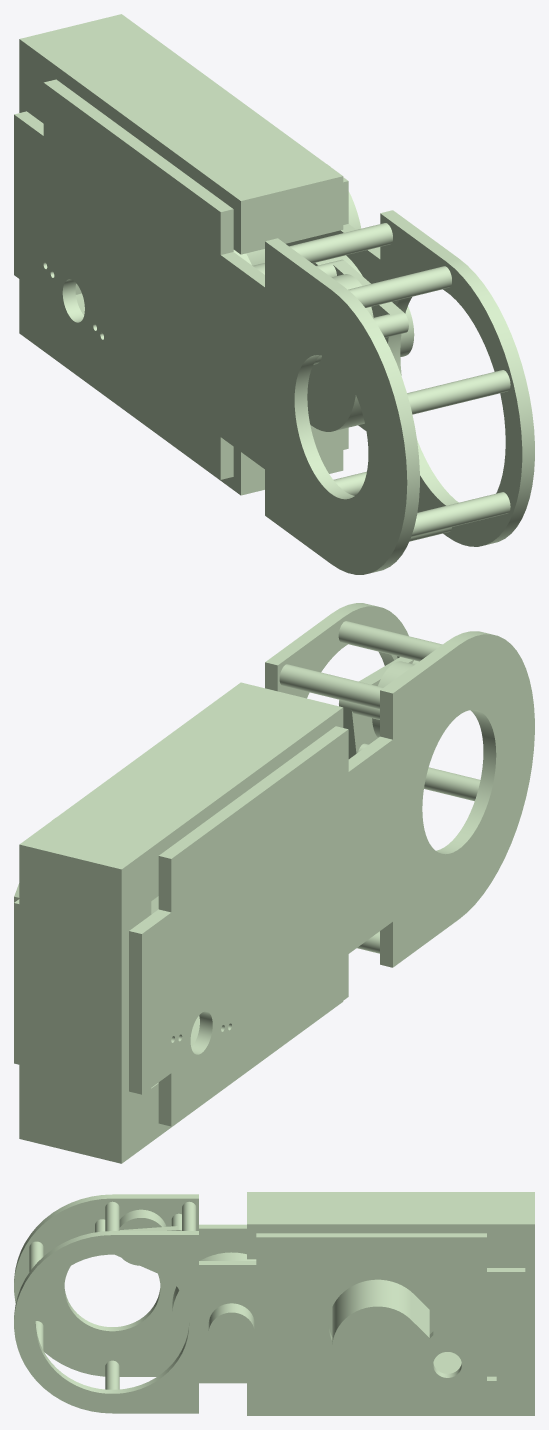
3 views of the same model, one above another, from view 1: azimuth 30°, elevation 25°; view 2: azimuth 150°, elevation 25°; view 3: azimuth 270°, elevation 25° (orthographic). The views are drawn at different scales.
Parts seen in each view (by area): view 1: Elev Carriage; view 2: Elev Carriage; view 3: Elev Carriage.
Part boxes in pixels (x1,y1,x2,y2): Elev Carriage: (14,14,534,574); Elev Carriage: (14,603,534,1163); Elev Carriage: (14,1192,534,1415).
Bounding box in the file's own units: 0.1 × 0.1397 × 0.3445.
